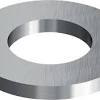No thread: (4, 17, 95, 63)
